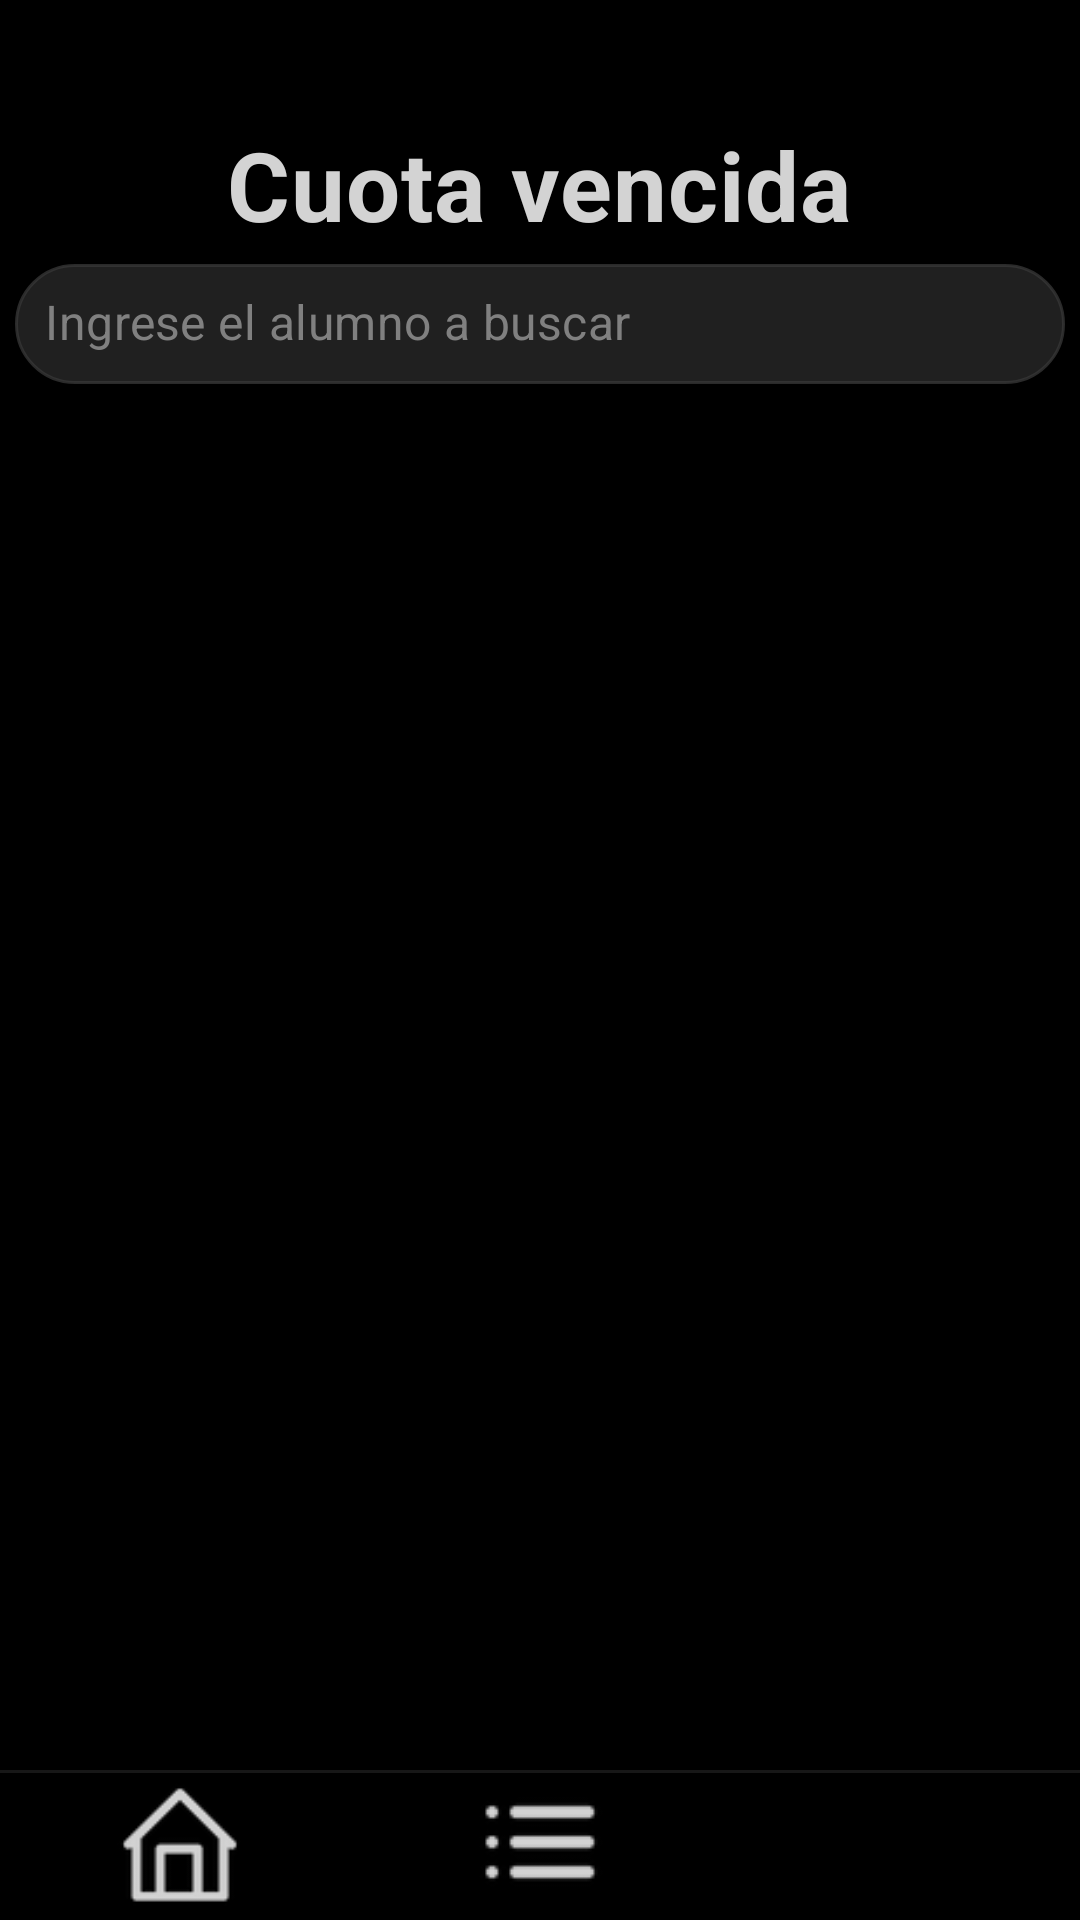

Screen size 1080x1920. Icon name, then its box in pixels as {"left": x1, "top": y1, "right": x2, "bottom": y2}:
home: {"left": 123, "top": 1788, "right": 237, "bottom": 1902}
list: {"left": 485, "top": 1805, "right": 595, "bottom": 1879}
